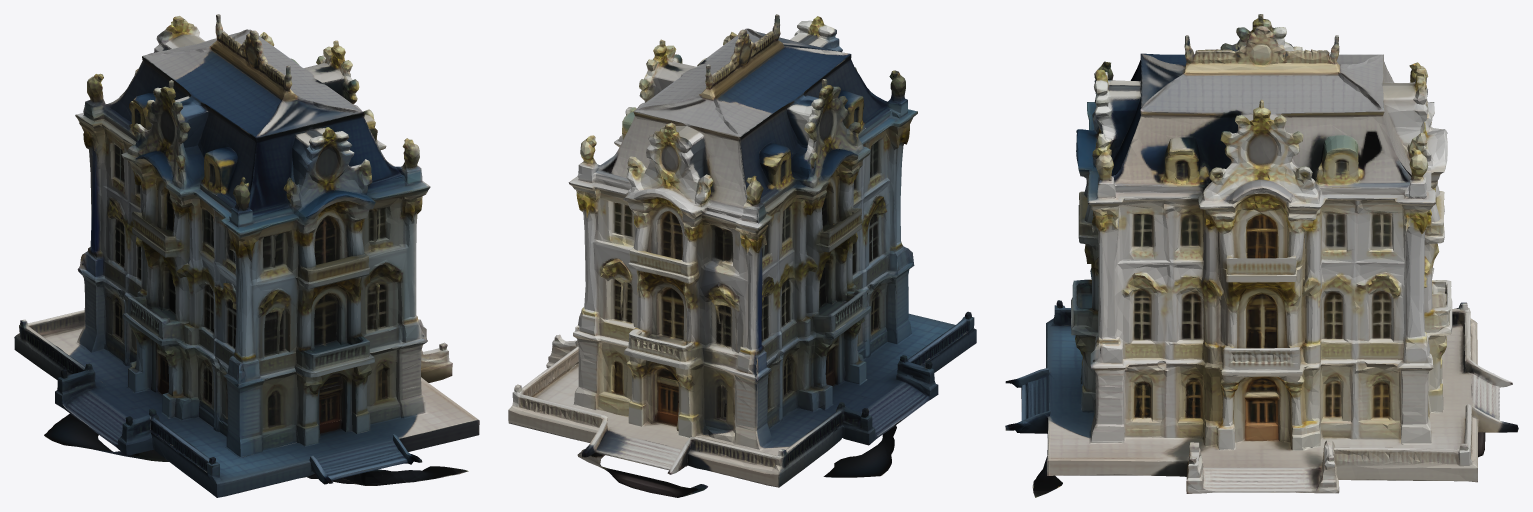
File: generated_model_552ee85e.glb
The picture shows the model from 3 angles, left to right: view 1: azimuth 30°, elevation 25°; view 2: azimuth 150°, elevation 25°; view 3: azimuth 270°, elevation 25°; orthographic projection. The views are drawn at different scales.
Visible parts, largest first — view 1: world; view 2: world; view 3: world.
Part boxes in pixels (x1,y1,x2,y2): world: (14,14,479,497); world: (508,14,976,497); world: (1005,14,1518,497).
Size of the model in its own units: 0.8174 by 0.902 by 1.
Materials: 1 (1 with a texture image).
